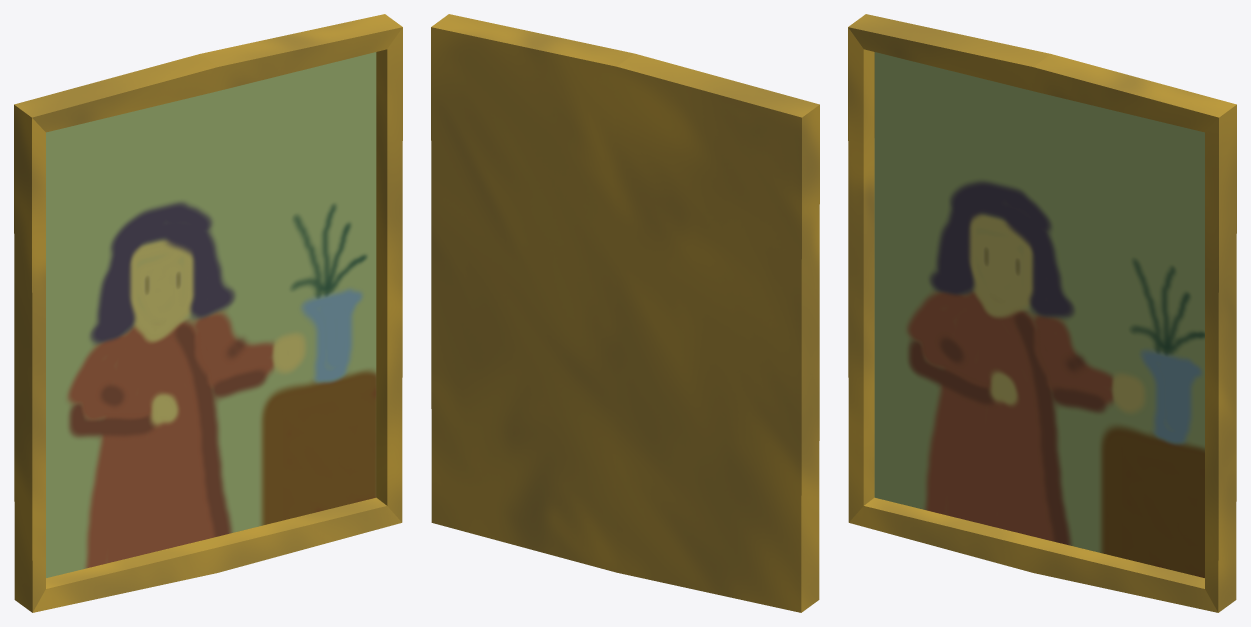
The model's file is gakubuti.fbx.
3 views of the same model, side by side, from view 1: azimuth 30°, elevation 25°; view 2: azimuth 150°, elevation 25°; view 3: azimuth 330°, elevation 25° (orthographic).
Parts seen in each view (by area): view 1: gakubuti; view 2: gakubuti; view 3: gakubuti.
Part boxes in pixels (x1,y1,x2,y2): gakubuti: (14, 14, 402, 612); gakubuti: (431, 14, 819, 612); gakubuti: (848, 14, 1236, 612).
Bounding box in the file's own units: 360 × 469 × 30.66.
1 material, 1 textured.
